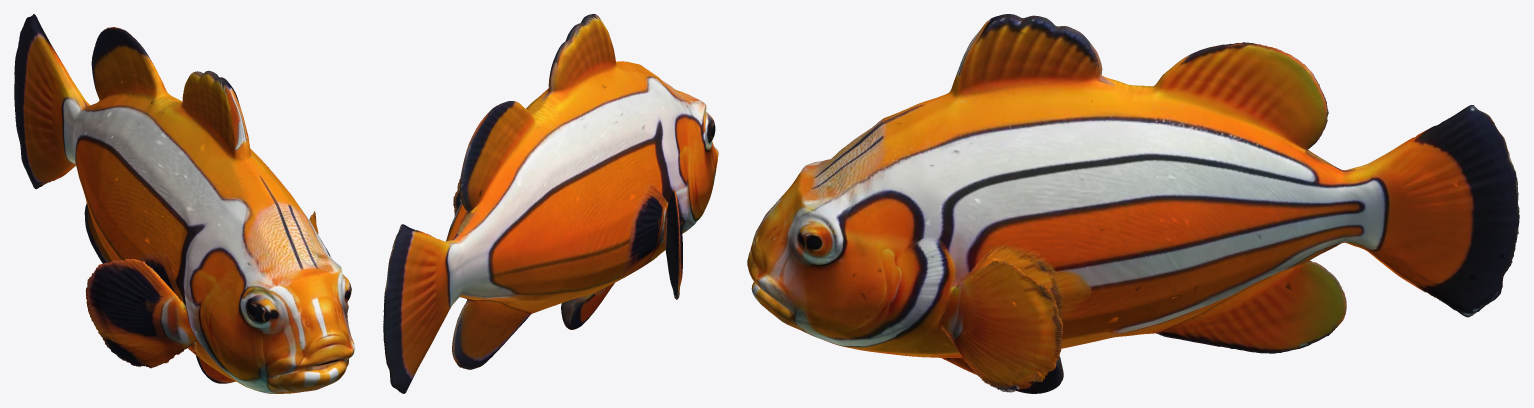
The model's file is Clownfish_texture.glb.
3 views of the same model, side by side, from view 1: azimuth 30°, elevation 25°; view 2: azimuth 150°, elevation 25°; view 3: azimuth 270°, elevation 25° (orthographic). The views are drawn at different scales.
Size of the model in its own units: 0.844 by 1.08 by 2.
Materials: 1 (1 with a texture image).
